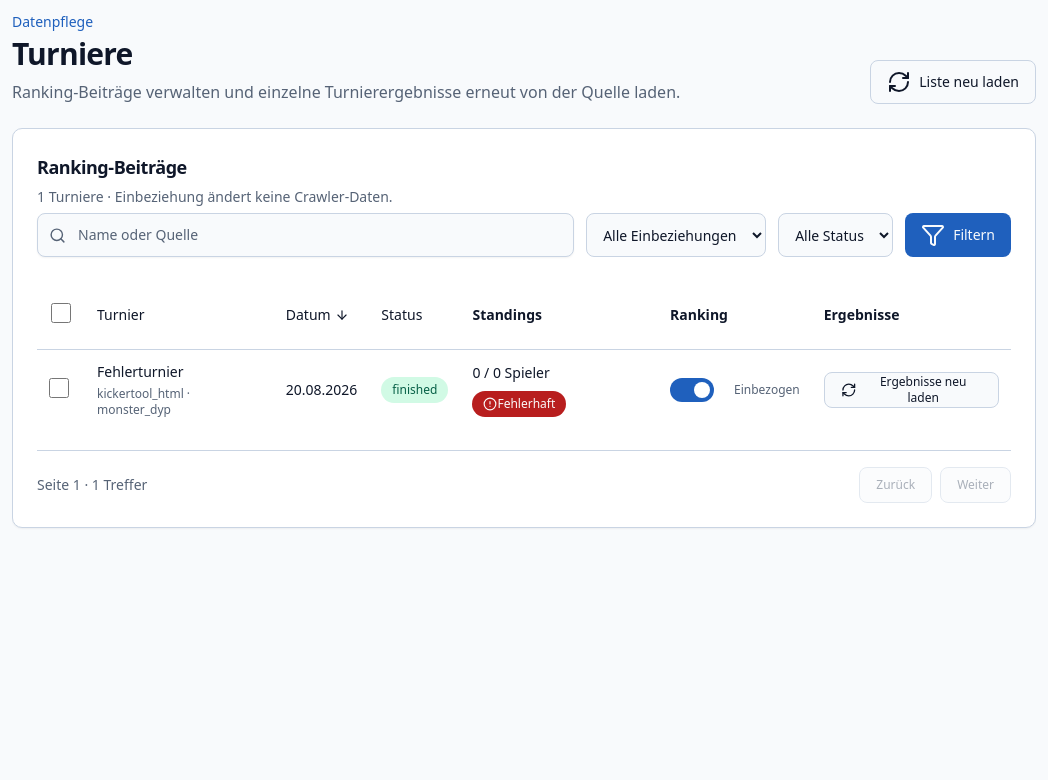
TournamentManagementPage › explains a busy crawler without pretending that a job started
Click the button with aria-label "Fehlerturnier: Ergebnisse neu laden". click: (911, 390)
box: [824, 372, 999, 408]
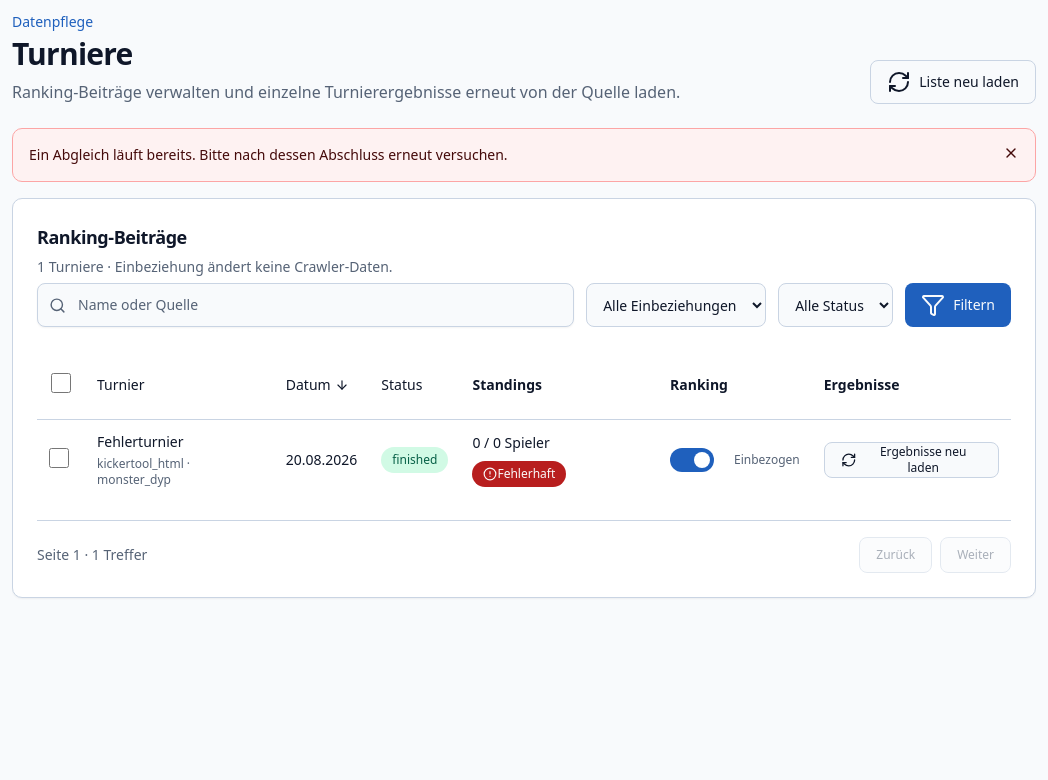
Result: the text "Ein Abgleich läuft bereits. Bitte nach dessen Abschluss erneut versuchen." is shown at [12, 128, 1036, 182]
